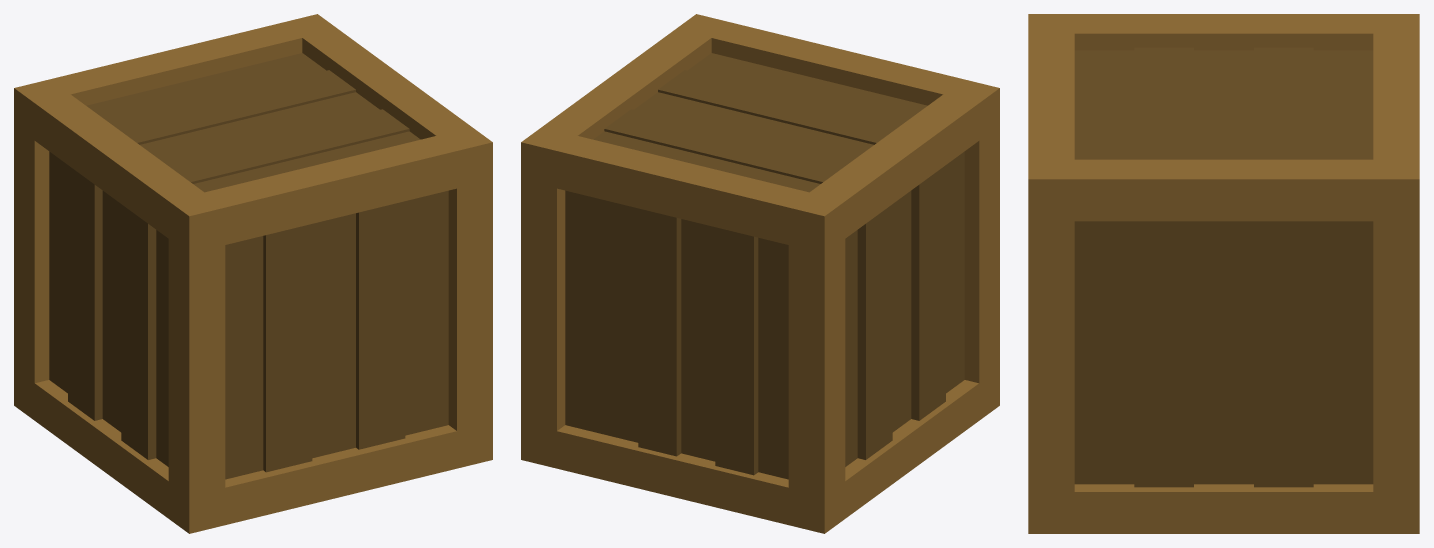
3 views of the same model, side by side, from view 1: azimuth 30°, elevation 25°; view 2: azimuth 150°, elevation 25°; view 3: azimuth 270°, elevation 25° (orthographic). The views are drawn at different scales.
Visible parts, largest first — view 1: Box-col; view 2: Box-col; view 3: Box-col.
Boxes of the visible parts, <box> form: Box-col: <box>14,14,492,533</box>; Box-col: <box>521,14,999,533</box>; Box-col: <box>1028,14,1419,533</box>.
Bounding box in the file's own units: 2 × 2 × 2.
